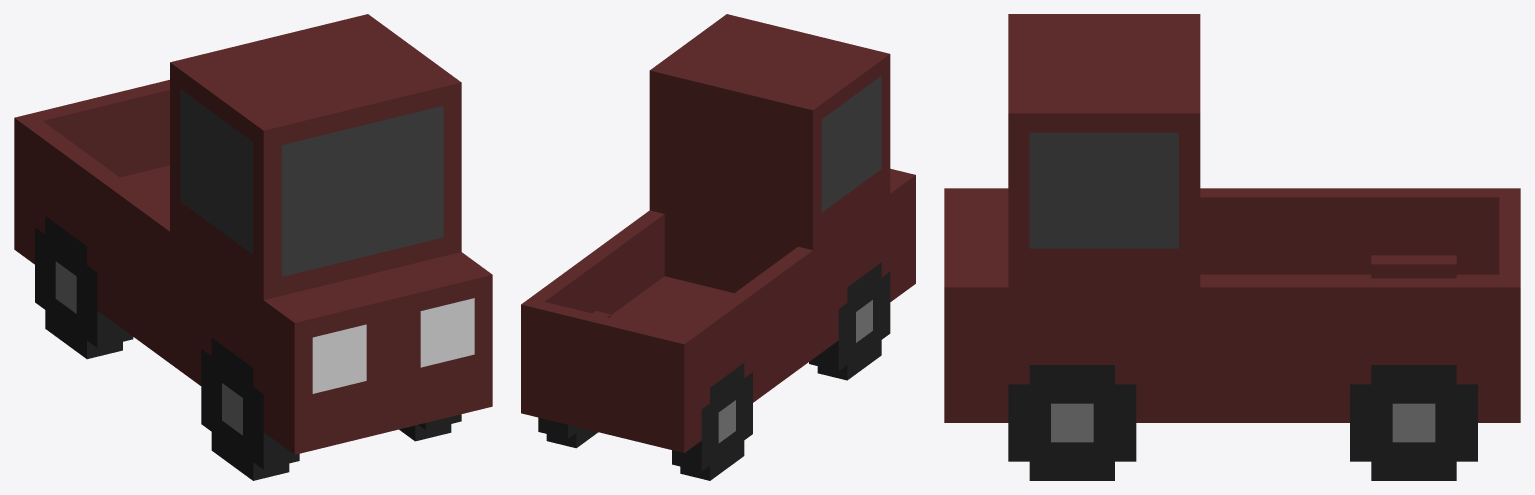
File: pickuptruck_brown.obj
The picture shows the model from 3 angles, left to right: view 1: azimuth 30°, elevation 25°; view 2: azimuth 150°, elevation 25°; view 3: azimuth 270°, elevation 25°; orthographic projection. The views are drawn at different scales.
Parts seen in each view (by area): view 1: pickuptruck_brown; view 2: pickuptruck_brown; view 3: pickuptruck_brown.
Boxes of the visible parts, x1,y1,x2,y2 form: pickuptruck_brown: [14, 14, 492, 480]; pickuptruck_brown: [521, 14, 915, 480]; pickuptruck_brown: [944, 14, 1520, 480].
Bounding box in the file's own units: 11 × 19 × 27.
1 material, 1 textured.
